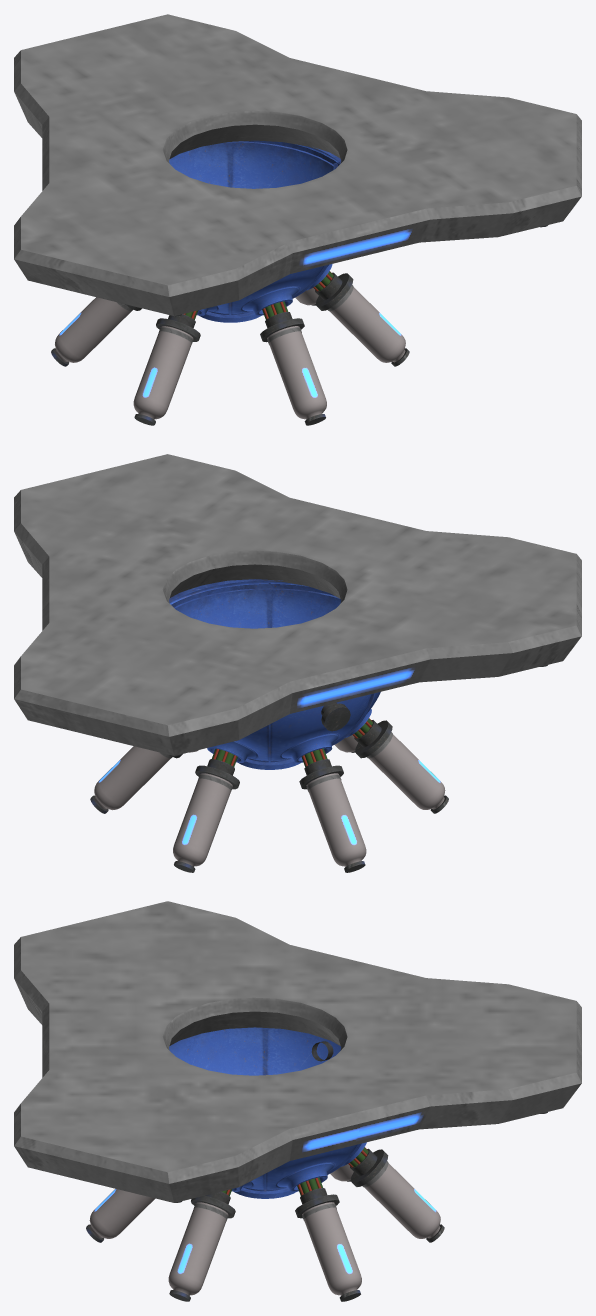
The model's file is Charger.fbx.
The picture shows the model from 3 angles, top to bottom: view 1: azimuth 30°, elevation 25°; view 2: azimuth 150°, elevation 25°; view 3: azimuth 270°, elevation 25°; orthographic projection.
Visible parts, largest first — view 1: Charger; view 2: Charger; view 3: Charger.
Part boxes in pixels (x1,y1,x2,y2): Charger: (14,14,581,425); Charger: (14,454,581,872); Charger: (14,901,581,1301).
Bounding box in the file's own units: 300 × 108 × 260.
